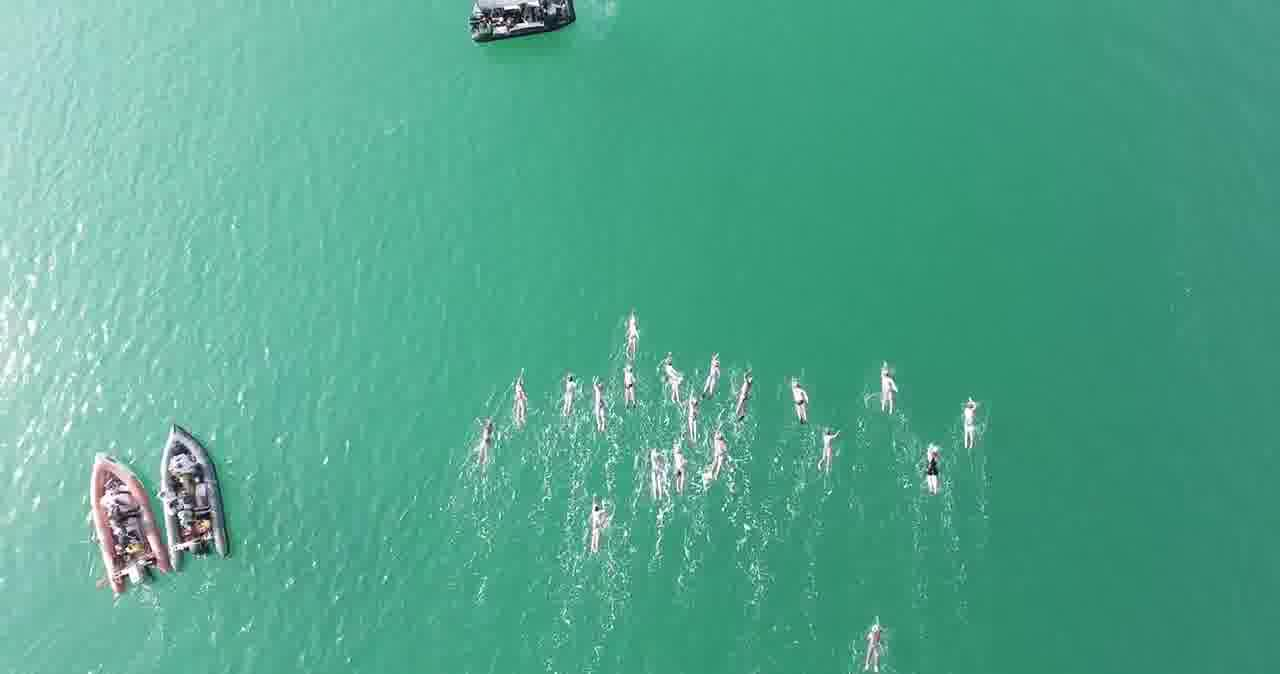human: (874, 361, 898, 418), (586, 494, 611, 546), (507, 365, 526, 430), (867, 615, 887, 673), (818, 430, 839, 478), (793, 376, 812, 428), (622, 312, 642, 360), (589, 380, 607, 430), (961, 399, 977, 453), (709, 349, 721, 398), (565, 376, 576, 420)
